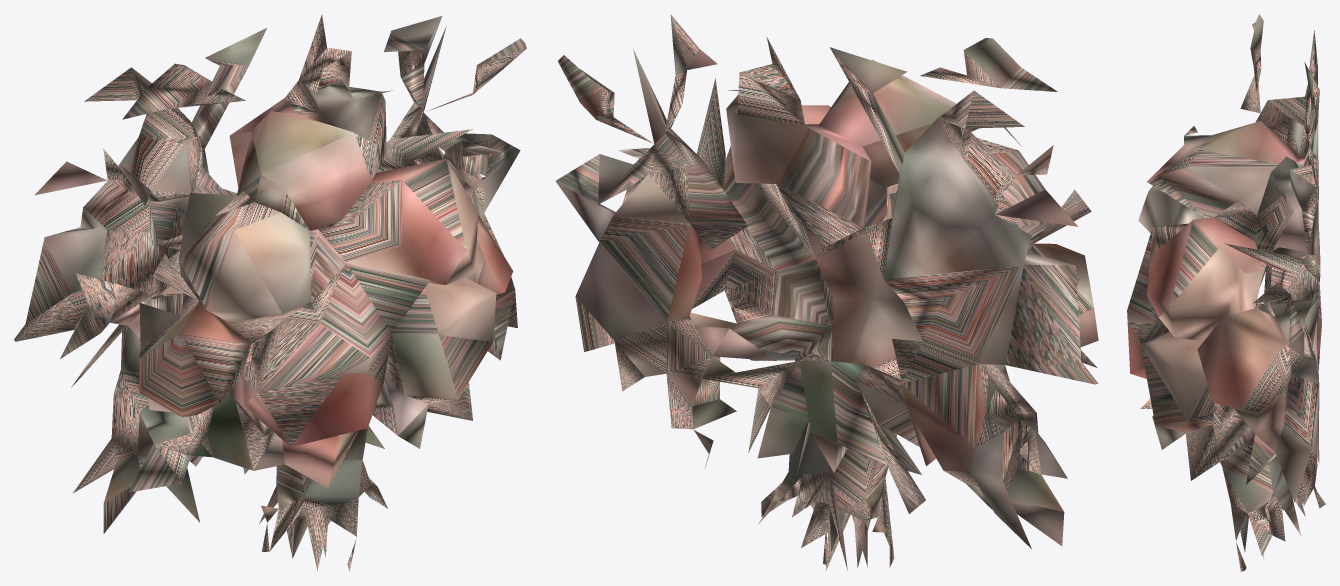
3 views of the same model, side by side, from view 1: azimuth 30°, elevation 25°; view 2: azimuth 150°, elevation 25°; view 3: azimuth 270°, elevation 25° (orthographic). The views are drawn at different scales.
Visible parts, largest first — view 1: Rose-Bouquet-9-21; view 2: Rose-Bouquet-9-21; view 3: Rose-Bouquet-9-21.
Boxes of the visible parts, <box> form: Rose-Bouquet-9-21: <box>14,15,526,571</box>; Rose-Bouquet-9-21: <box>555,14,1098,570</box>; Rose-Bouquet-9-21: <box>1127,14,1325,571</box>.
Bounding box in the file's own units: 0.2724 × 0.2773 × 0.1029.
Materials: 1 (1 with a texture image).
